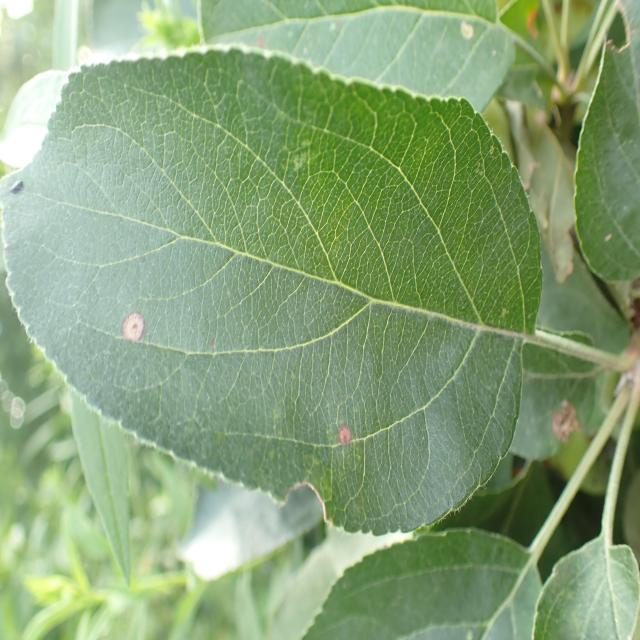frog-eye-leaf-spot: (1, 43, 546, 538)
